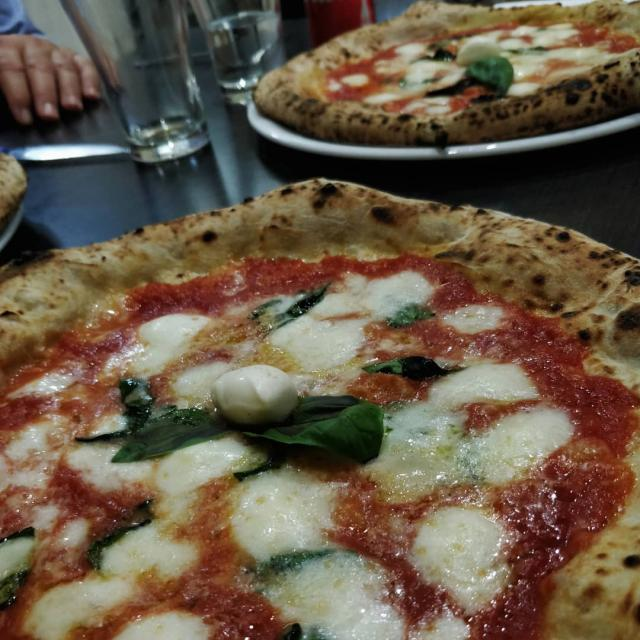basil: (106, 393, 394, 467), (243, 544, 370, 640), (240, 400, 388, 469), (222, 274, 334, 345), (79, 498, 156, 576), (71, 378, 153, 442), (360, 349, 470, 386), (0, 524, 40, 615), (375, 286, 443, 328), (462, 52, 516, 99), (398, 73, 445, 89), (428, 40, 459, 62), (504, 46, 550, 58)
pizza: (0, 176, 640, 640), (249, 0, 640, 150)
